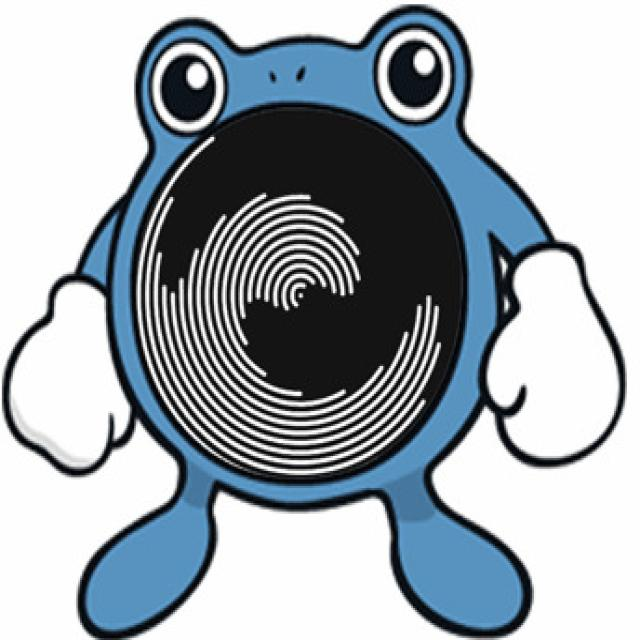Poliwhirl: (53, 14, 591, 614)
